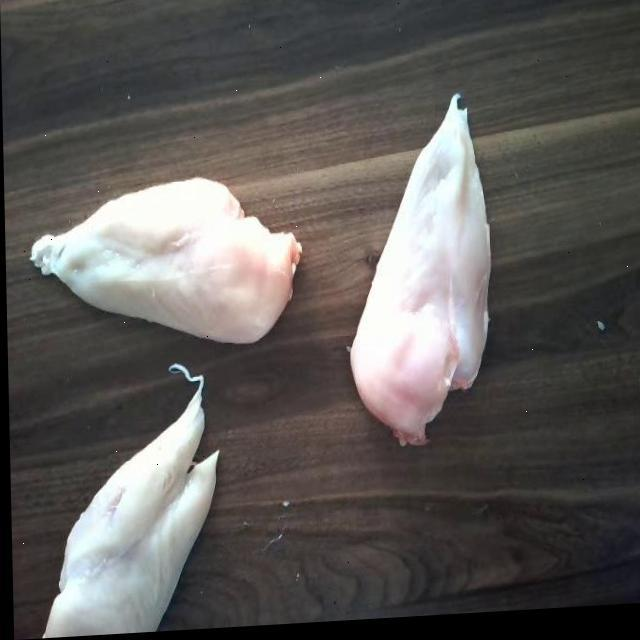breast: (341, 97, 489, 450), (36, 174, 298, 358), (41, 384, 221, 638)
